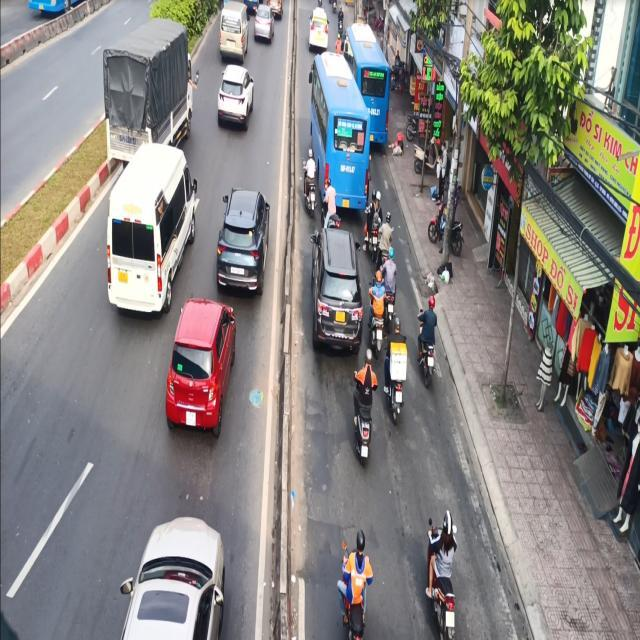bus: (307, 50, 372, 211), (341, 21, 391, 150)
car: (105, 142, 198, 316), (118, 515, 225, 639), (164, 296, 236, 438)
person: (339, 529, 374, 638)
truck: (101, 17, 193, 164)
